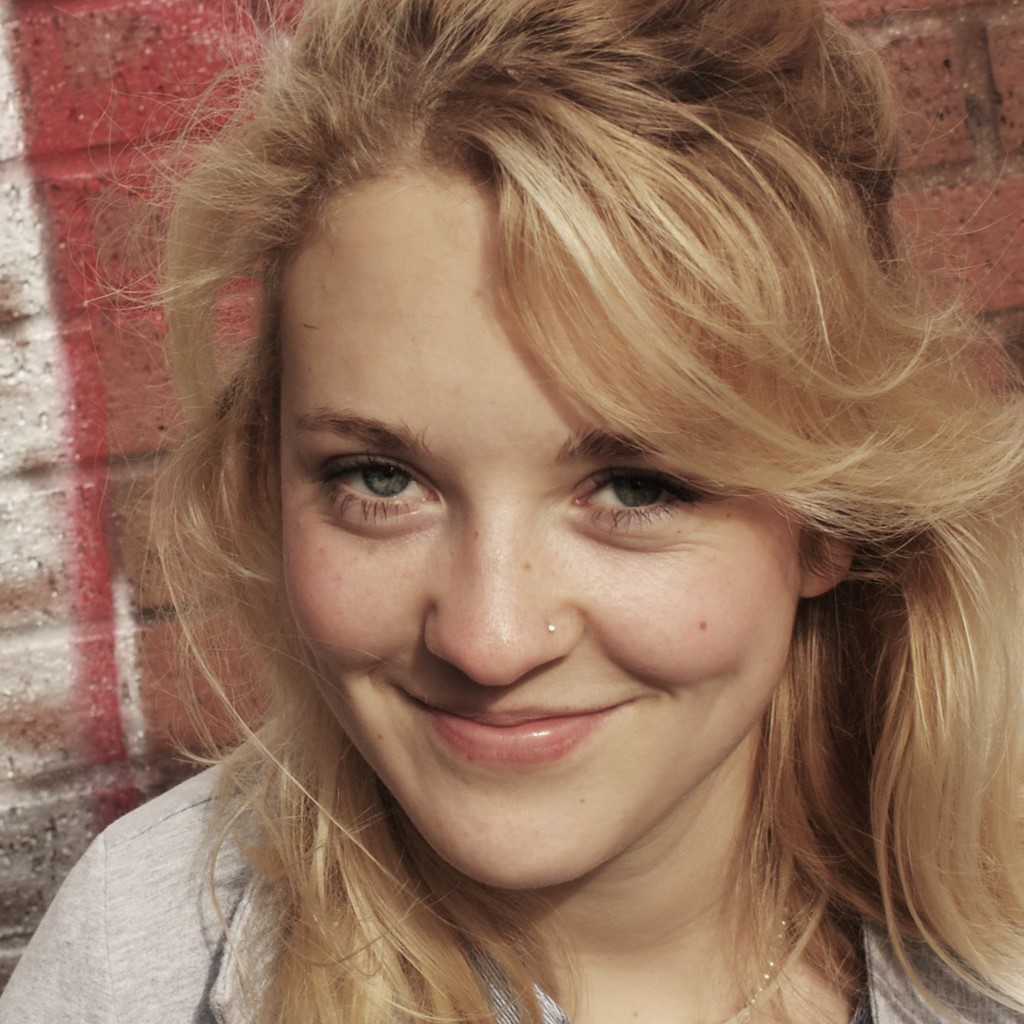sin_mascara: (232, 119, 821, 896)
